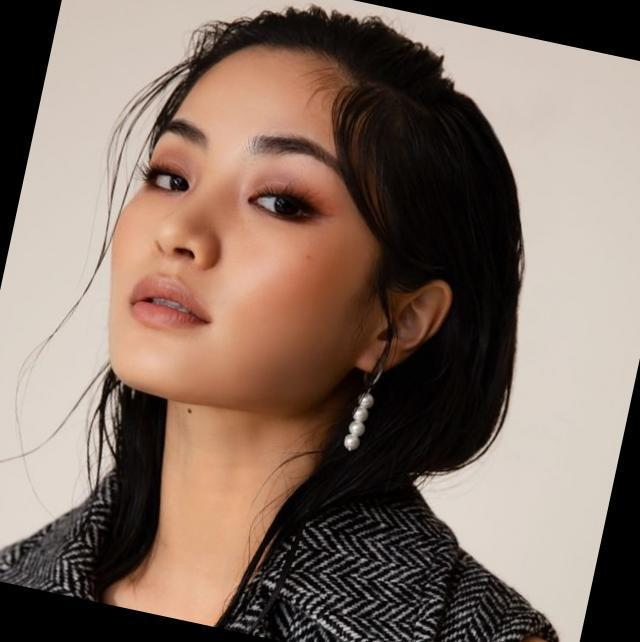Sober: (112, 60, 365, 390)
